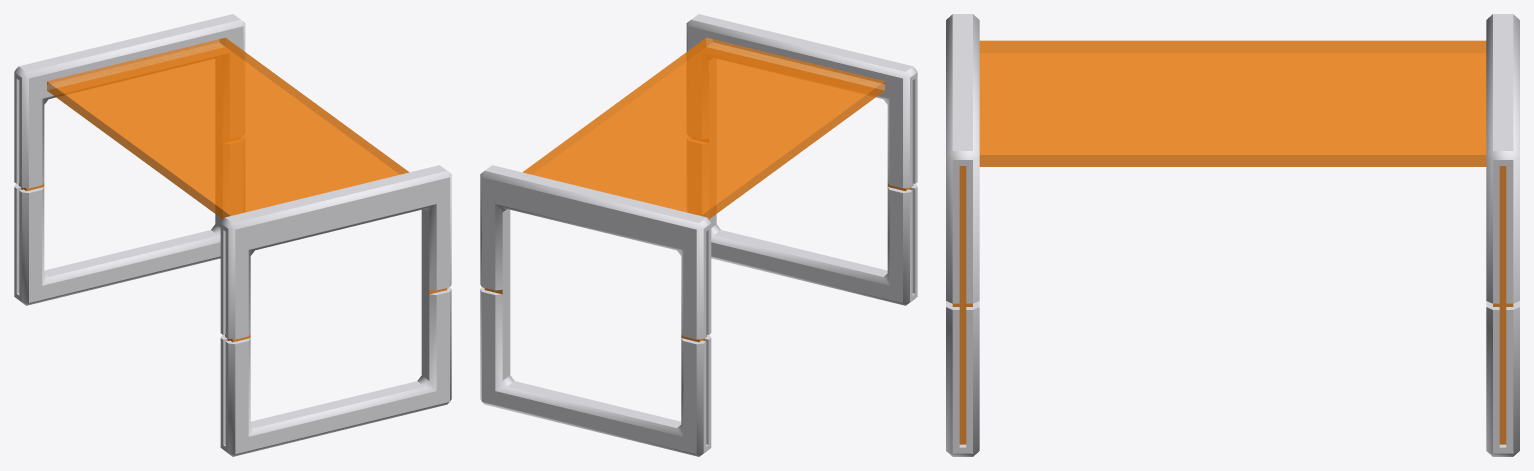
Rendered from Small rectangle.fbx.
3 views of the same model, side by side, from view 1: azimuth 30°, elevation 25°; view 2: azimuth 150°, elevation 25°; view 3: azimuth 270°, elevation 25° (orthographic). The views are drawn at different scales.
Visible parts, largest first — view 1: Group3, Group2, Group1; view 2: Group3, Group1, Group2; view 3: Group3, Group1, Group2.
Boxes of the visible parts, box(x1,y1,x2,y2) form: Group3: box(47, 37, 409, 219); Group2: box(220, 165, 451, 456); Group1: box(14, 14, 245, 305); Group3: box(522, 37, 884, 219); Group1: box(480, 165, 711, 456); Group2: box(686, 14, 917, 305); Group3: box(979, 40, 1486, 166); Group1: box(1486, 14, 1519, 456); Group2: box(946, 14, 979, 456).
Size of the model in its own units: 500 by 500 by 850.
